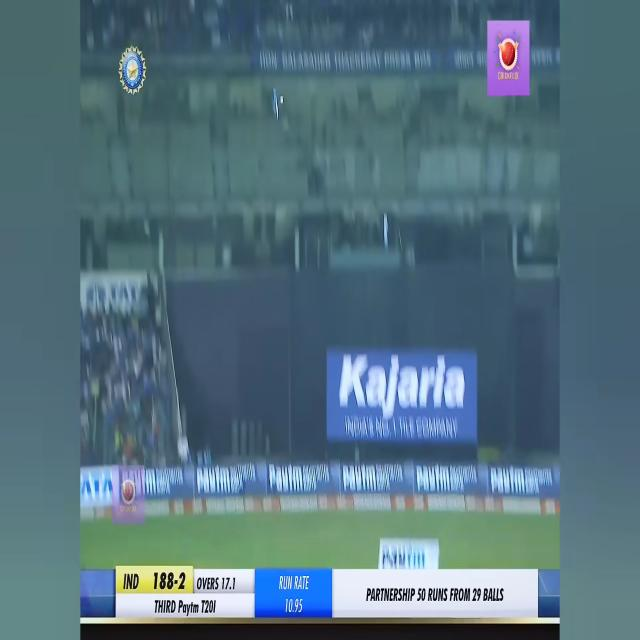fully_visible: (417, 462, 451, 501), (343, 459, 377, 497), (490, 464, 525, 500), (177, 591, 202, 618)
partially_visible: (379, 530, 429, 575), (271, 461, 306, 497), (194, 466, 230, 493)
